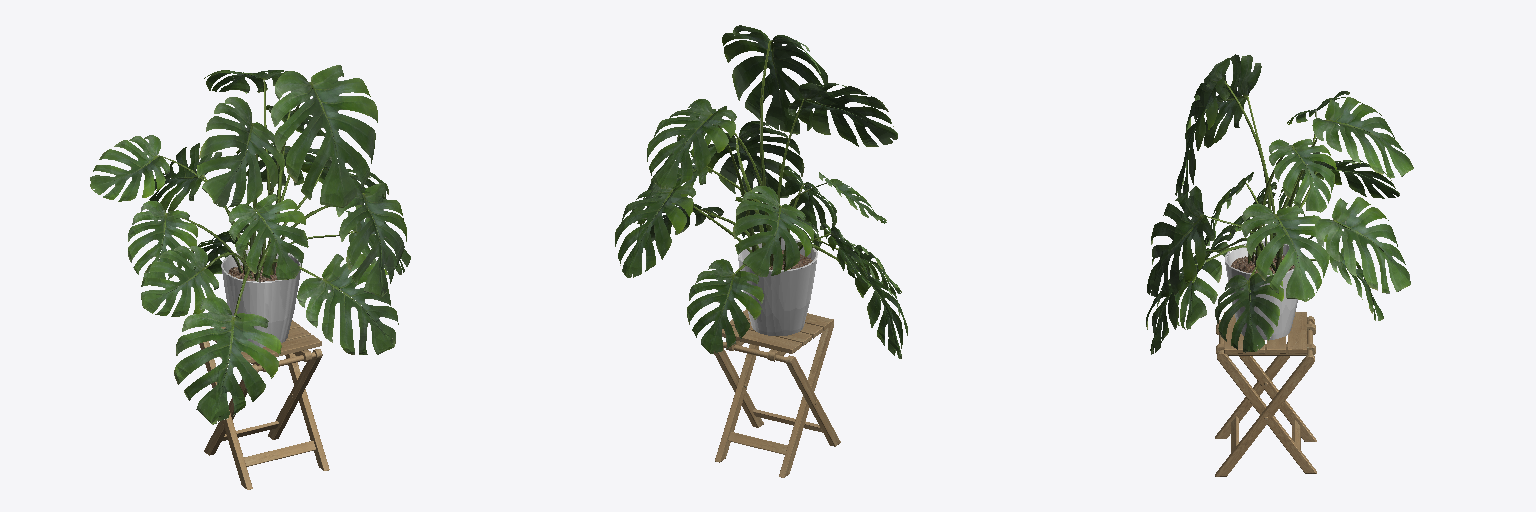
3 renders of one model, left to right at view 1: azimuth 30°, elevation 25°; view 2: azimuth 150°, elevation 25°; view 3: azimuth 270°, elevation 25°, orthographic.
Visible parts, largest first — view 1: solid_002, solid_001, solid_003; view 2: solid_002, solid_001, solid_003; view 3: solid_002, solid_001, solid_003.
Boxes of the visible parts, box(x1,y1,x2,y2) form: solid_002: box(90, 65, 410, 424); solid_001: box(199, 320, 329, 489); solid_003: box(221, 249, 301, 347); solid_002: box(615, 25, 907, 358); solid_001: box(714, 309, 840, 477); solid_003: box(738, 238, 817, 335); solid_002: box(1146, 54, 1413, 354); solid_001: box(1215, 312, 1316, 476); solid_003: box(1225, 241, 1298, 339).
Size of the model in its own units: 1.01 by 1.36 by 0.8204.
Materials: 1 (1 with a texture image).